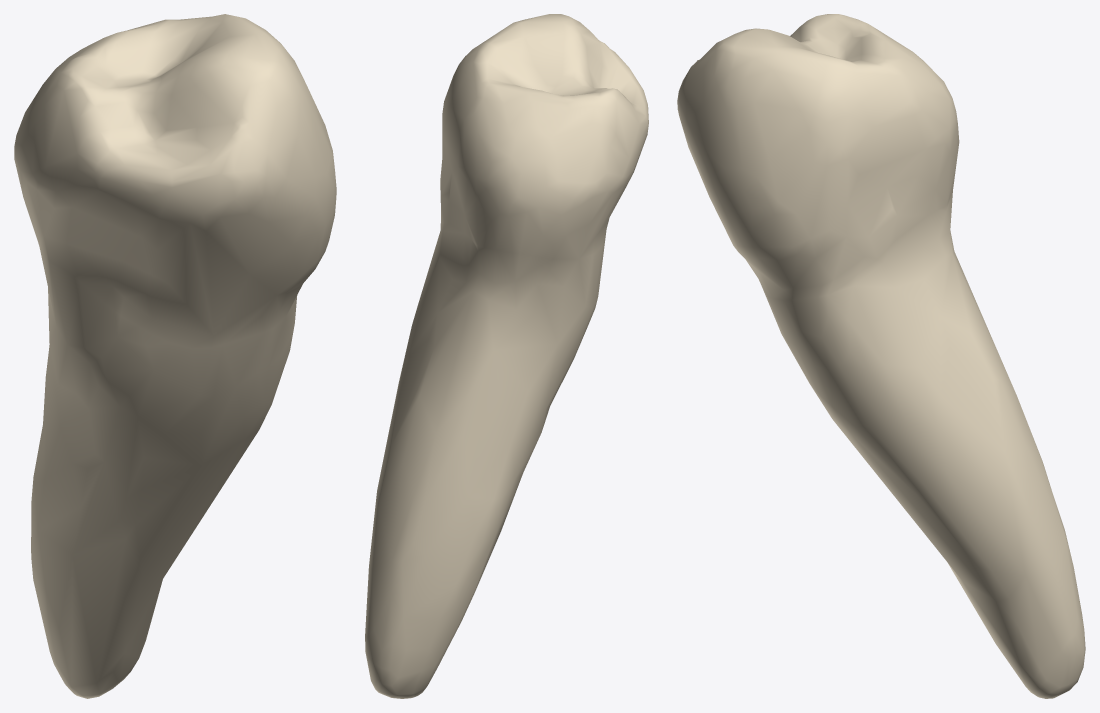
Rendered from lower-second-premolar-l.glb.
3 views of the same model, side by side, from view 1: azimuth 30°, elevation 25°; view 2: azimuth 150°, elevation 25°; view 3: azimuth 270°, elevation 25° (orthographic). The views are drawn at different scales.
Visible parts, largest first — view 1: Lower second premolar.l; view 2: Lower second premolar.l; view 3: Lower second premolar.l.
Part boxes in pixels (x1,y1,x2,y2): Lower second premolar.l: (14,14,336,698); Lower second premolar.l: (365,14,648,698); Lower second premolar.l: (677,14,1085,698).
Size of the model in its own units: 0.00795 by 0.0228 by 0.013.
